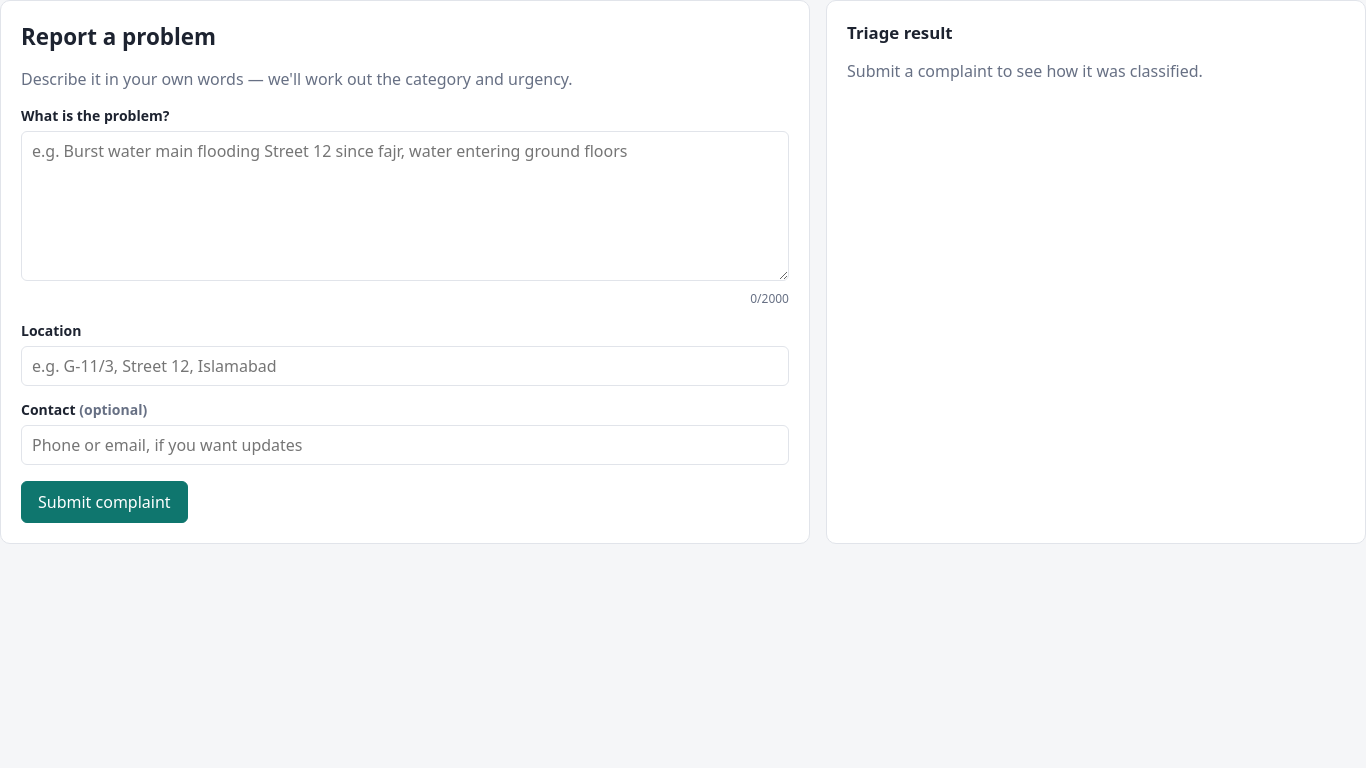
Test: SubmitPage › maps server field-level 400 errors onto the form
Type "Burst water main flooding Street 12" into the text box labelled "What is the problem?".
click(405, 206); type("Burst water main flooding Street 12")  # box left=21, top=131, right=789, bottom=281
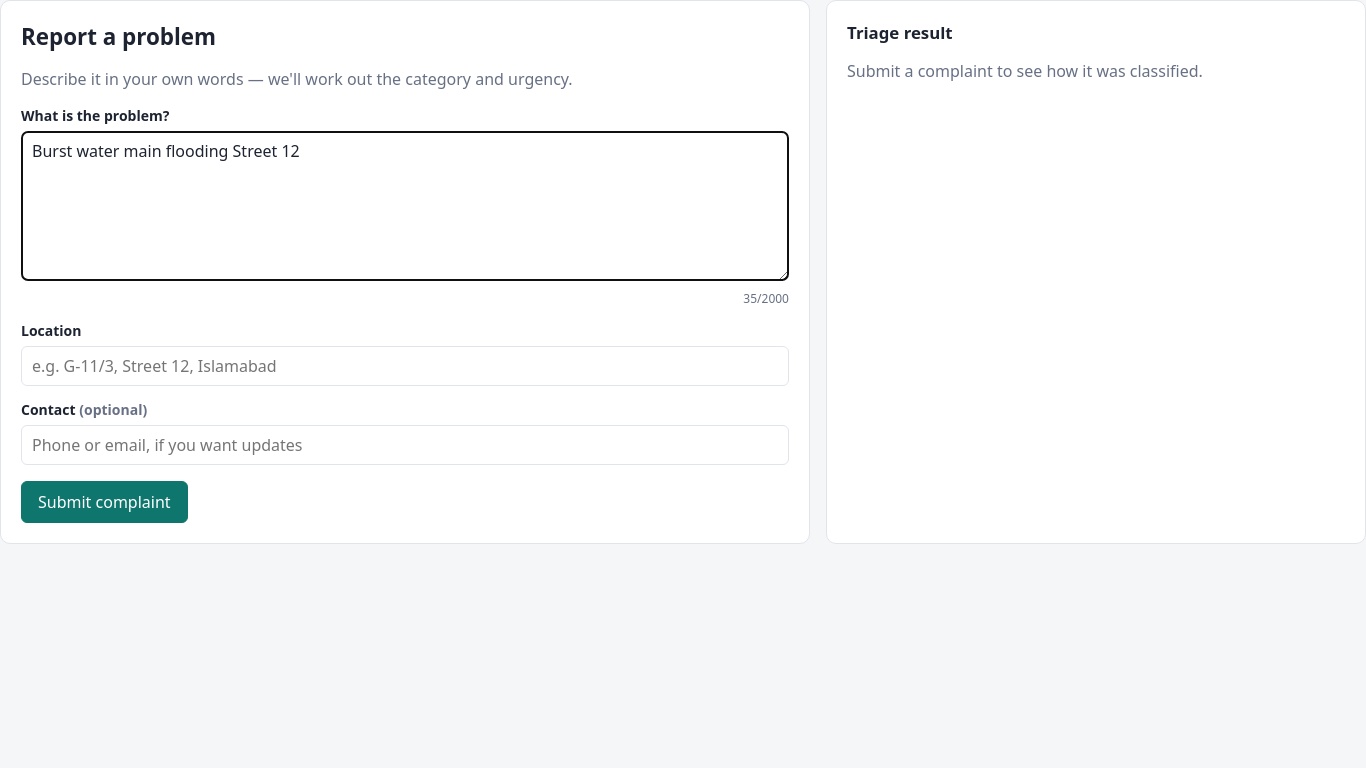
Type "G-11/3" into the field labelled "Location".
click(405, 366); type("G-11/3")  # box left=21, top=346, right=789, bottom=386
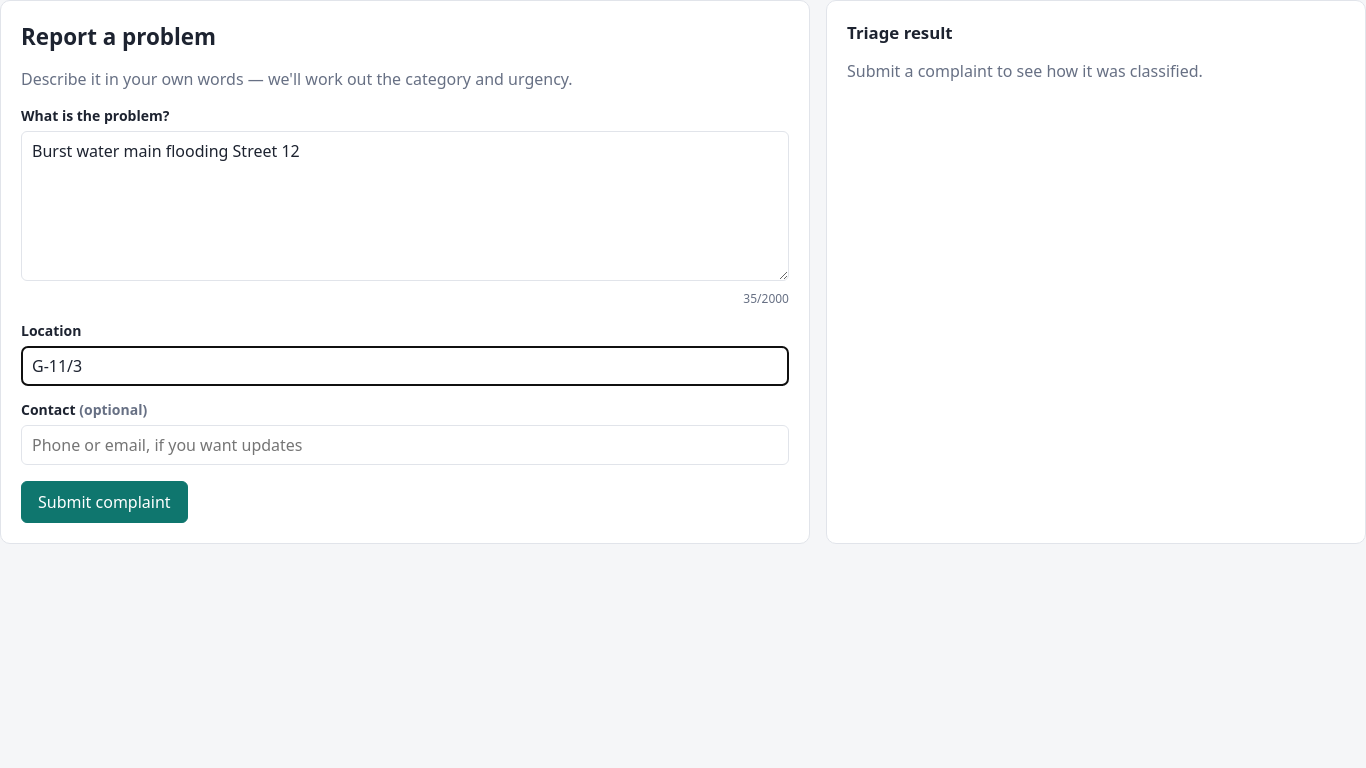
Click the button "Submit complaint".
click(104, 502)  # box left=21, top=481, right=188, bottom=523
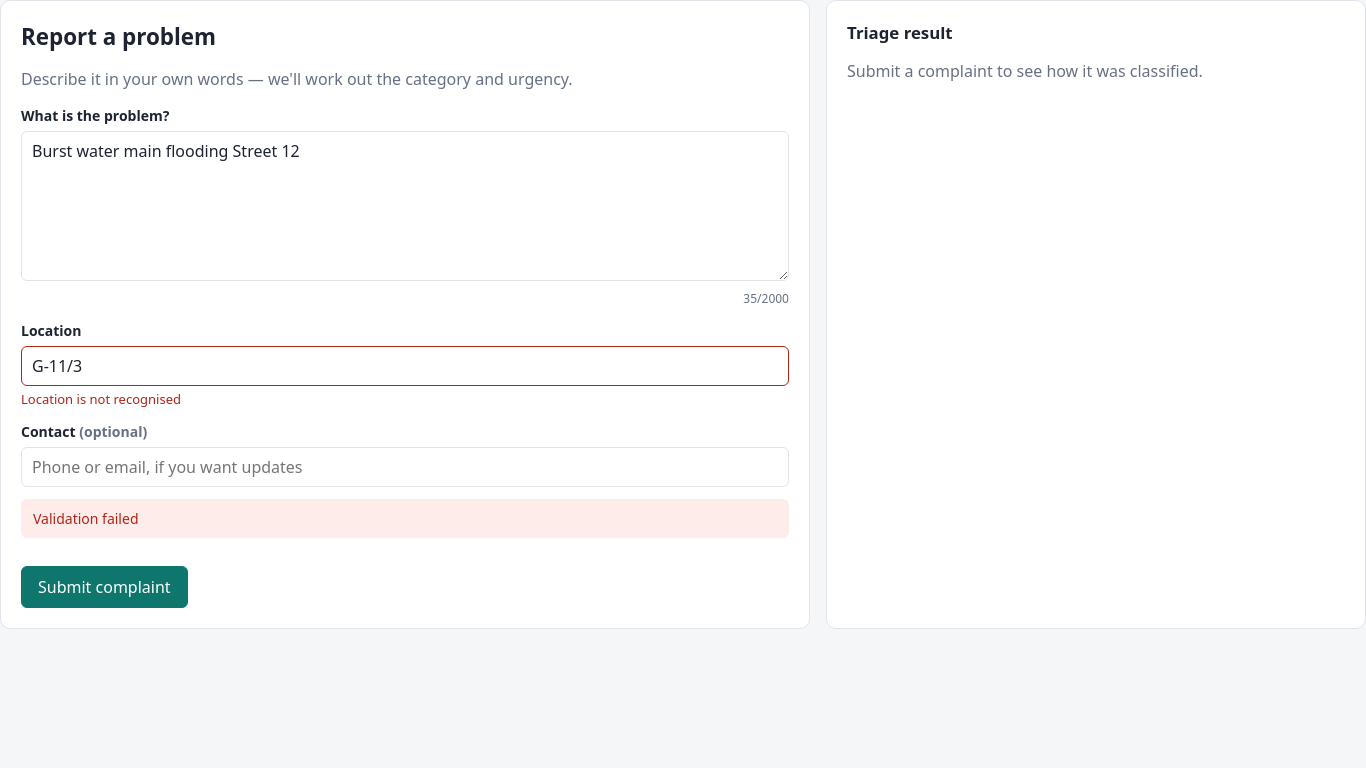
Result: the text "Location is not recognised" is shown at left=21, top=390, right=181, bottom=408
